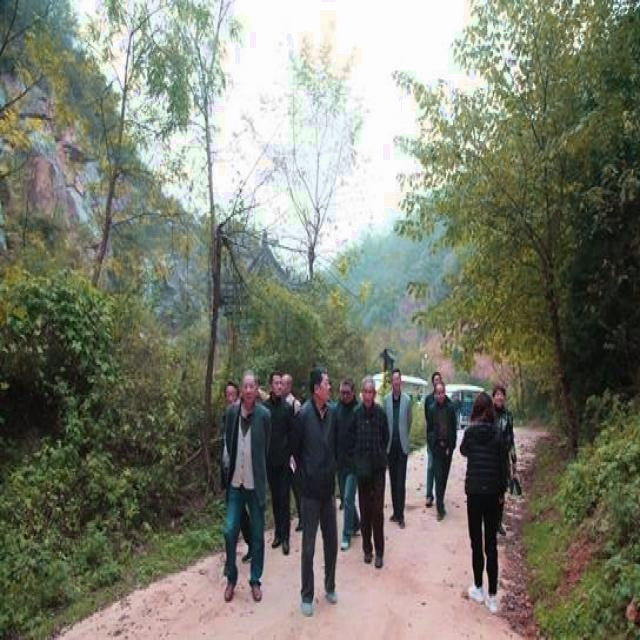Sin_Casco_Mascarrilla: (310, 367, 330, 404), (240, 369, 257, 403), (360, 376, 376, 406)
